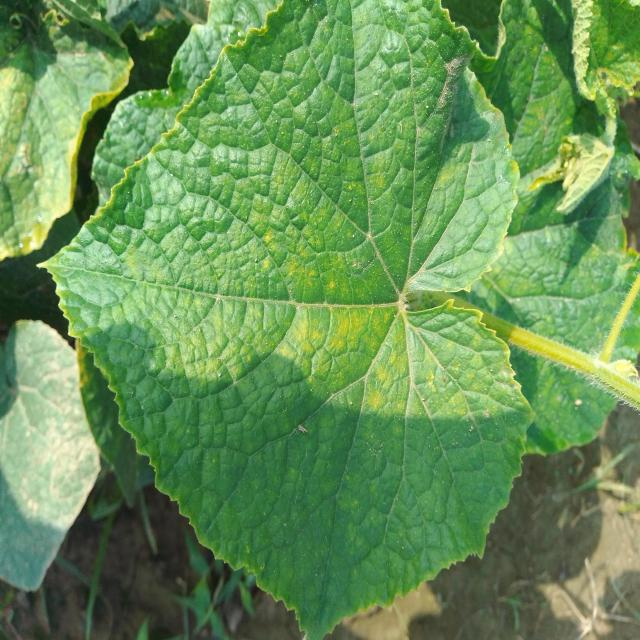cucumber_healthy: (35, 1, 539, 640), (508, 0, 634, 484), (4, 0, 136, 277), (2, 308, 100, 608), (557, 0, 640, 105)
